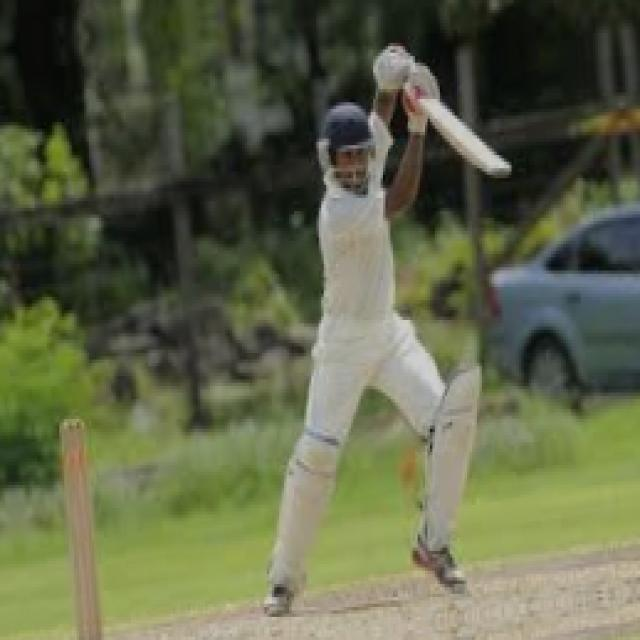bat: (410, 88, 520, 184)
toe: (481, 164, 513, 179)
